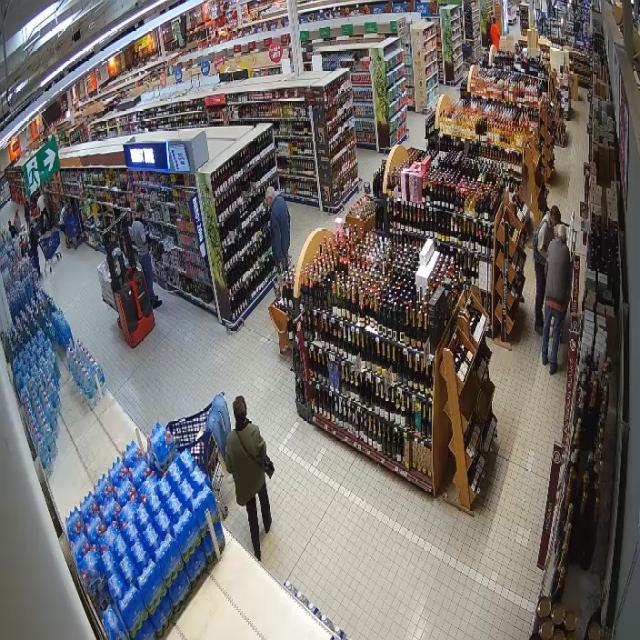bags: (238, 434, 259, 464), (533, 226, 544, 263)
person: (225, 396, 271, 560), (542, 225, 571, 374), (533, 206, 560, 334), (130, 203, 161, 308), (265, 187, 289, 266)
